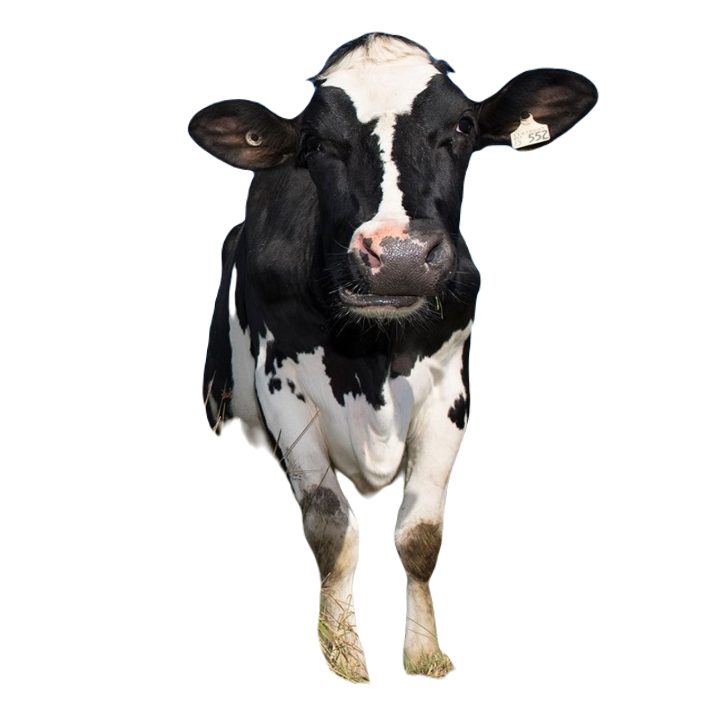Cow: (187, 32, 600, 684)
